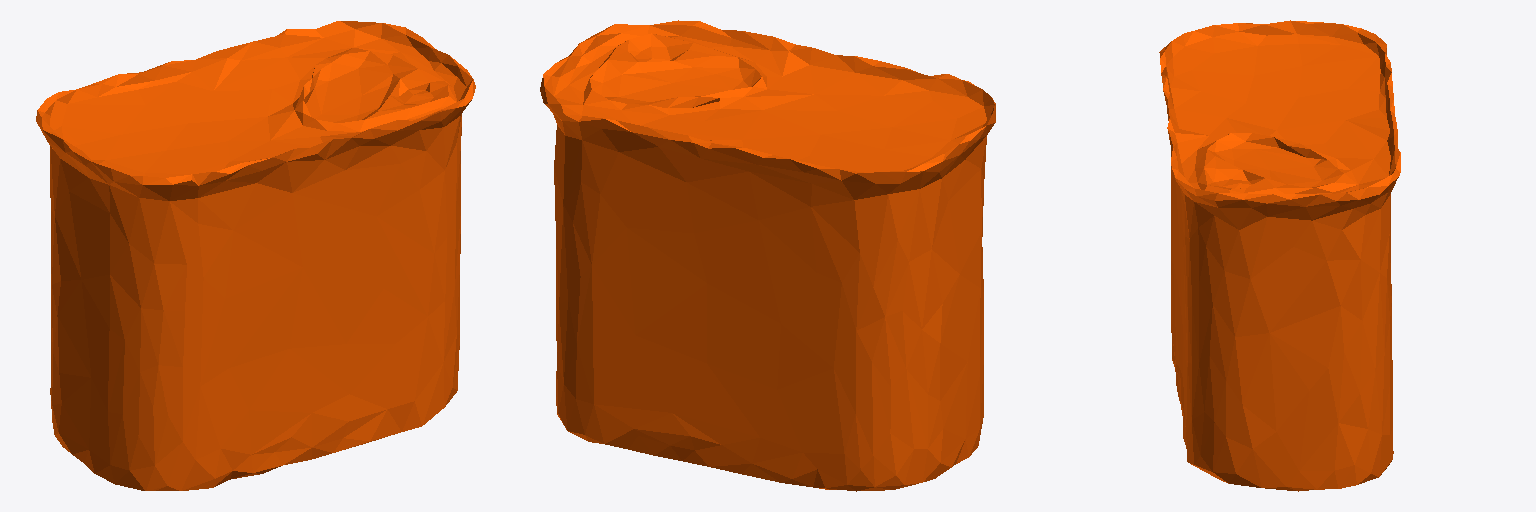
The robot description file, URDF, robot "010_potted_meat_can":
<?xml version="1.0" ?>
<robot name="010_potted_meat_can">
   <material name="obj_color">
      <color rgba="1.0 0.423529411765 0.0392156862745 1.0"/>
   </material>
   <link name="top">
      <inertial>
         <origin rpy="0.0001748466684662448 0.0002249430984609005 0.000299457142760931" xyz="-0.002376779414362084 -0.0004622225435089432 -0.00864257193857897"/>
         <mass value="0.24875"/>
         <inertia ixx="0.0001752301789381384" ixy="-6.846091686971209e-06" ixz="-5.995769007809131e-07" iyy="0.000299071598344992" iyz="7.51432559946973e-07" izz="0.0002249451324049458"/>
      </inertial>
      <visual>
         <origin rpy="0 0 0" xyz="0 0 0"/>
         <geometry>
            <mesh filename="top_watertight_tiny.stl" scale="1 1 1"/>
         </geometry>
         <material name="obj_color"/>
      </visual>
      <collision>
         <origin rpy="0 0 0" xyz="0 0 0"/>
         <geometry>
            <mesh filename="top_watertight_tiny.obj" scale="1 1 1"/>
         </geometry>
      </collision>
   </link>
   <link name="bottom">
      <inertial>
         <origin rpy="1.633333333199431e-08 1.633333333199431e-08 1.633333333362855e-08" xyz="0.3464080000000008 0.3464080000000008 0.3464080000000008"/>
         <mass value="0.0009800000000000017"/>
         <inertia ixx="1.633333333253906e-08" ixy="5.447480642029219e-19" ixz="5.447480642029219e-19" iyy="1.633333333253906e-08" iyz="5.447480642029219e-19" izz="1.633333333253906e-08"/>
      </inertial>
      <visual>
         <origin rpy="0 0 0" xyz="0 0 0"/>
         <geometry>
            <mesh filename="bottom_watertight_tiny.stl" scale="1 1 1"/>
         </geometry>
         <material name="obj_color"/>
      </visual>
   </link>
   <joint name="rotation" type="revolute">
      <origin xyz="0 0 0"/>
      <axis xyz="0 0 -1"/>
      <parent link="bottom"/>
      <child link="top"/>
      <dynamics damping="1.0" friction="1.0"/>
      <limit effort="0.1" velocity="0.1" lower="0" upper="0.001"/>
   </joint>
</robot>

--- Facts derived from the render (not from the file) ---
Views: 3 orthographic renders of the robot side by side, from view 1: azimuth 30°, elevation 25°; view 2: azimuth 150°, elevation 25°; view 3: azimuth 270°, elevation 25°.
Model 010_potted_meat_can with 2 links and 1 joints (1 revolute), rooted at bottom, posed all joints at 0.
Links seen in each view (by area): view 1: top; view 2: top; view 3: top.
Boxes of the visible links, <box> form: top: <box>36,21,475,490</box>; top: <box>540,20,995,491</box>; top: <box>1159,20,1400,491</box>.
Size in the robot's own frame: 0.1018 by 0.0593 by 0.0833 metres.
Meshes: 2 distinct files referenced, 1 mesh visuals loaded (1 binary STL); not drawn: 1 (reference not matched to a file when rendering).